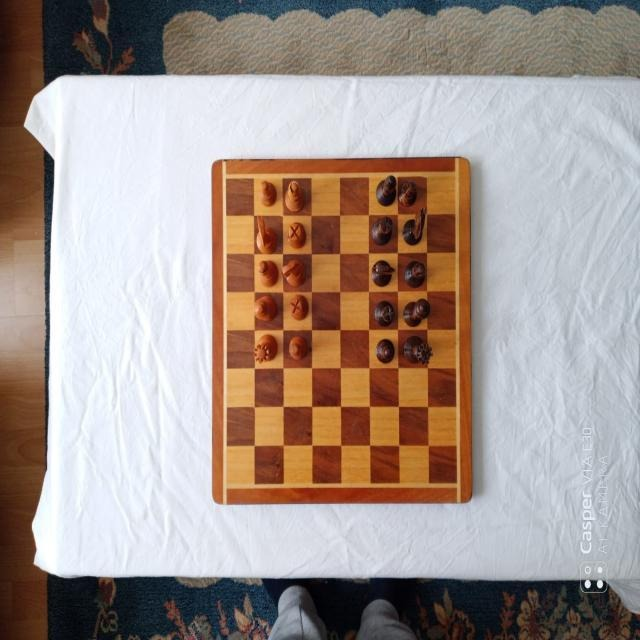black-bishop: (403, 260, 426, 288), (376, 174, 396, 206)
black-king: (403, 296, 431, 327)
black-knight: (402, 206, 426, 245), (372, 260, 396, 288)
black-pawn: (398, 180, 418, 208), (376, 338, 395, 364)
black-queen: (403, 334, 433, 365)
black-rook: (370, 215, 393, 245), (374, 300, 394, 328)
white-bishop: (283, 180, 304, 212), (257, 259, 279, 287)
white-king: (252, 294, 277, 321)
white-knight: (256, 215, 278, 255), (280, 258, 306, 286)
white-pawn: (259, 180, 277, 208), (289, 335, 307, 361)
white-queen: (253, 333, 278, 364)
white-rook: (286, 222, 306, 250), (288, 294, 308, 321)
